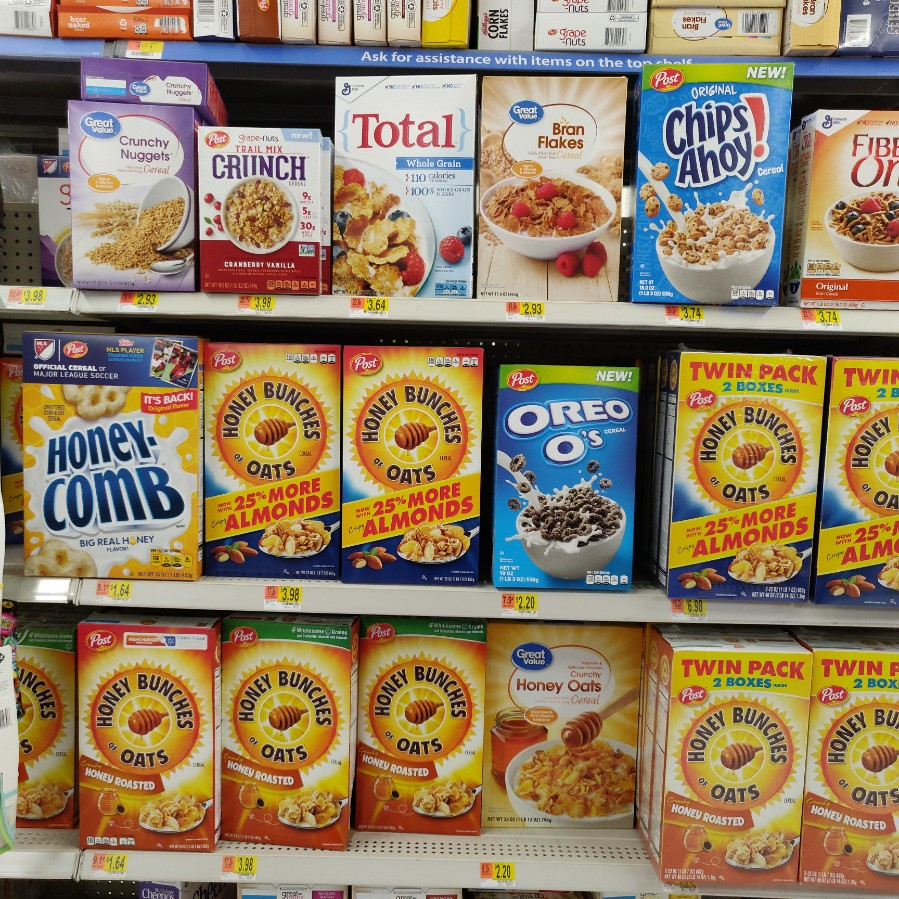Honey Comb- 009288857: (24, 329, 205, 574)
Oreo-563424384: (496, 364, 636, 588)
